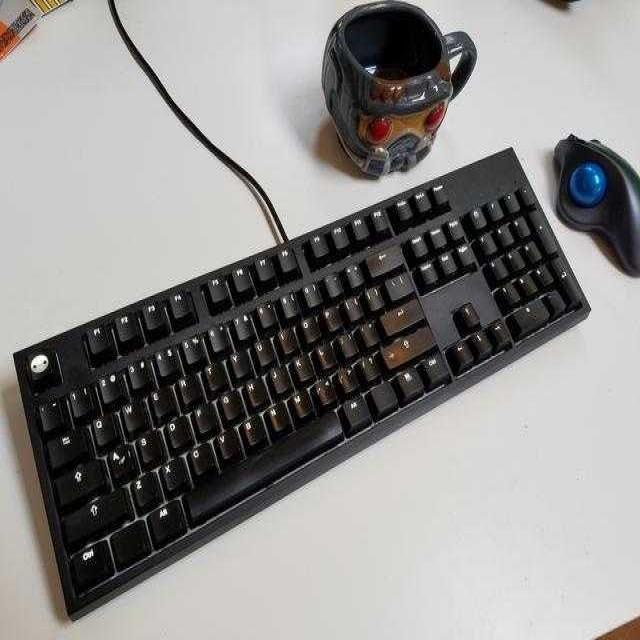keyboard: (10, 145, 592, 622)
